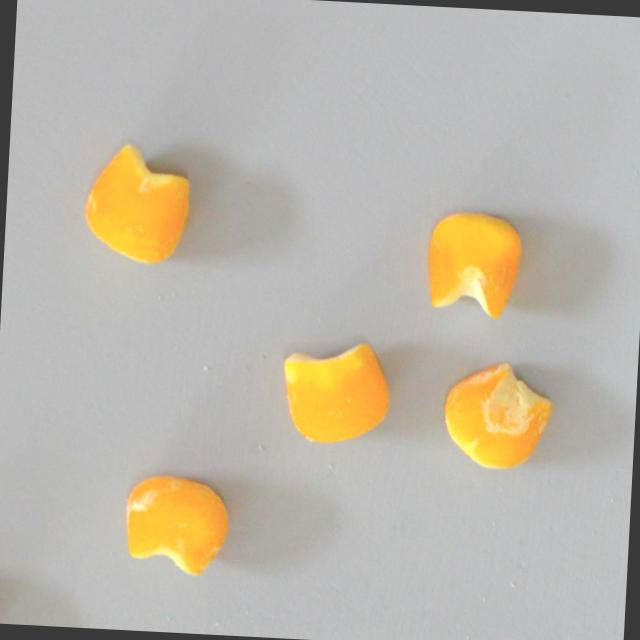no_canjicado: (82, 141, 194, 266), (279, 338, 394, 446), (424, 207, 525, 321)
pelicula: (443, 356, 557, 472), (123, 473, 232, 578)
